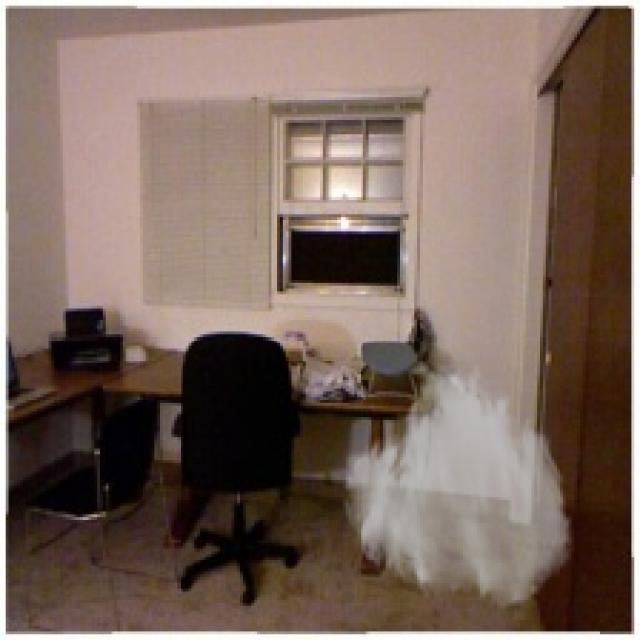Smoke: (340, 354, 574, 612)
